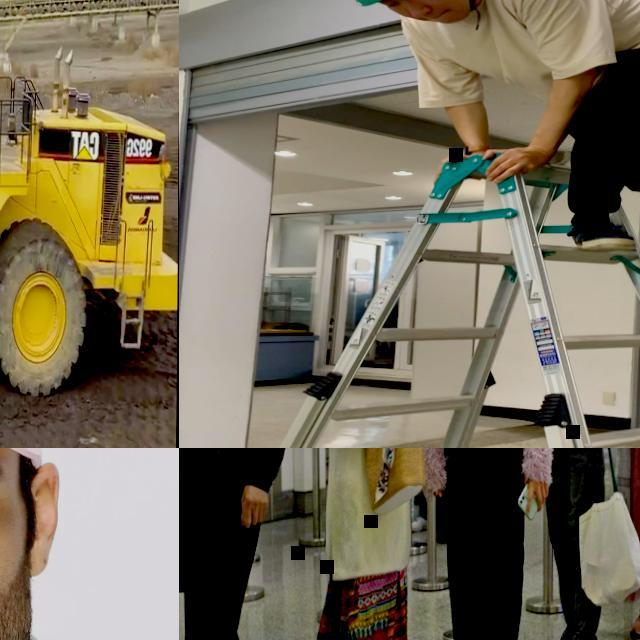Helmet: (5, 442, 53, 471), (356, 0, 389, 15)
Robbery: (358, 0, 639, 274), (294, 425, 436, 639), (422, 445, 563, 639), (164, 448, 283, 639), (534, 442, 639, 639), (0, 436, 101, 638)
